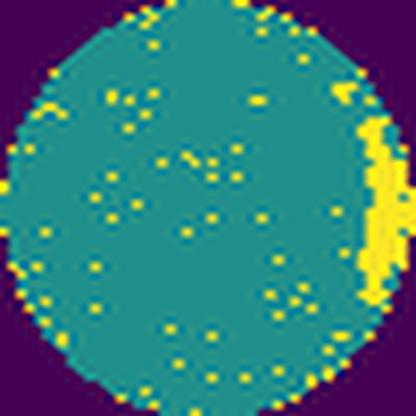Edge-Loc: (351, 109, 416, 319)
